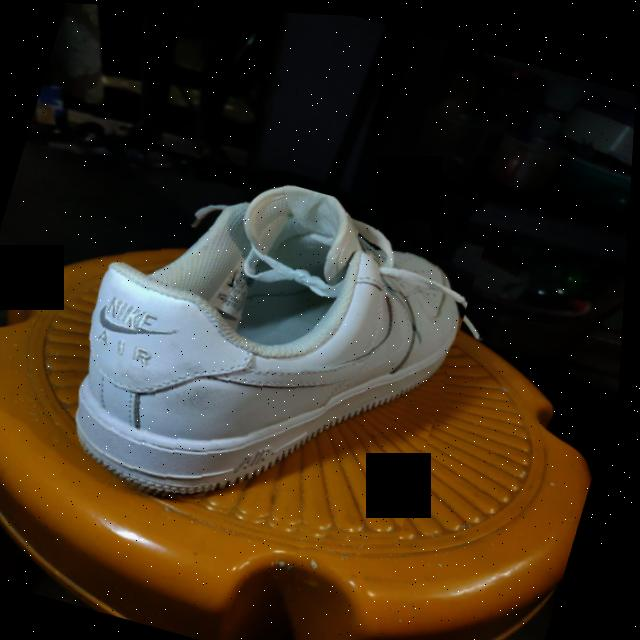shoe: (45, 137, 492, 561)
